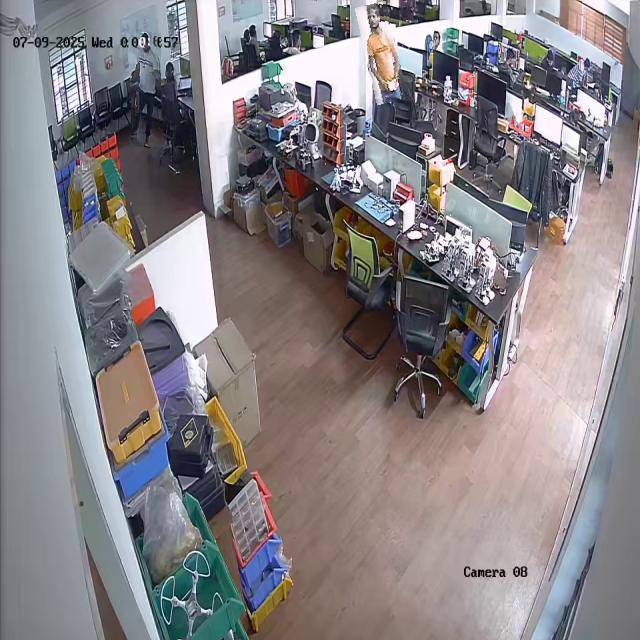person: (361, 2, 403, 104), (129, 33, 163, 147)
